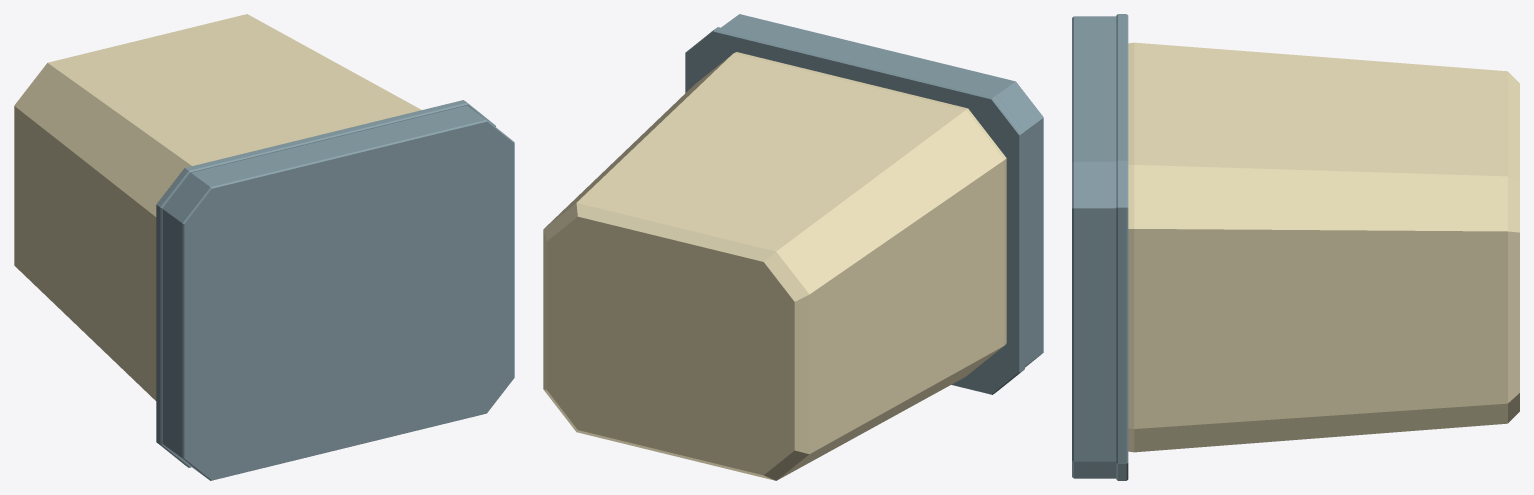
The model's file is ice_cream_tub.glb.
The picture shows the model from 3 angles, left to right: view 1: azimuth 30°, elevation 25°; view 2: azimuth 150°, elevation 25°; view 3: azimuth 270°, elevation 25°; orthographic projection. The views are drawn at different scales.
Parts seen in each view (by area): view 1: ice_cream_tub; view 2: ice_cream_tub; view 3: ice_cream_tub.
Part boxes in pixels (x1,y1,x2,y2): ice_cream_tub: [14, 14, 514, 480]; ice_cream_tub: [543, 14, 1043, 480]; ice_cream_tub: [1072, 14, 1519, 480].
Bounding box in the file's own units: 0.104 × 0.088 × 0.1115.
